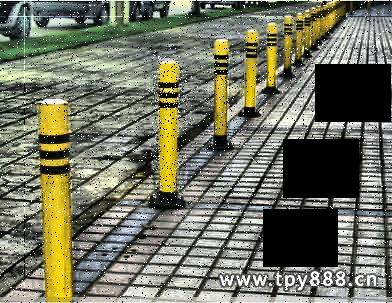bench: (152, 54, 188, 209), (206, 34, 237, 149)
